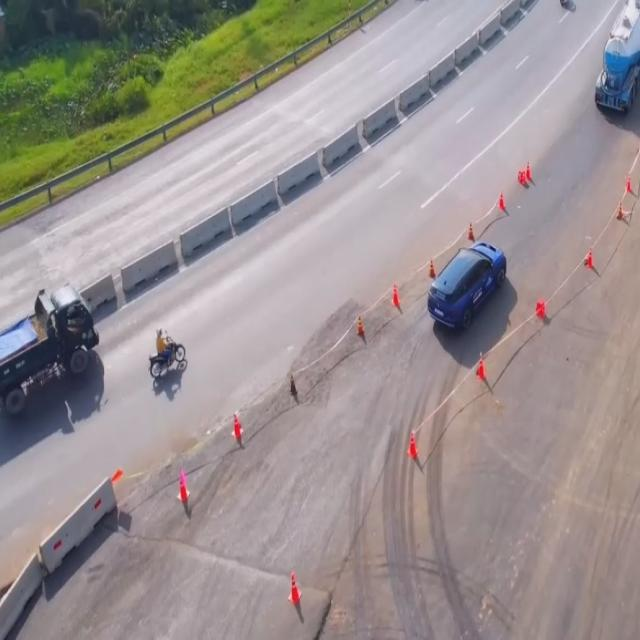car: (428, 240, 508, 332)
motorbike: (146, 327, 186, 379)
truck: (1, 287, 106, 426), (594, 0, 640, 115)
